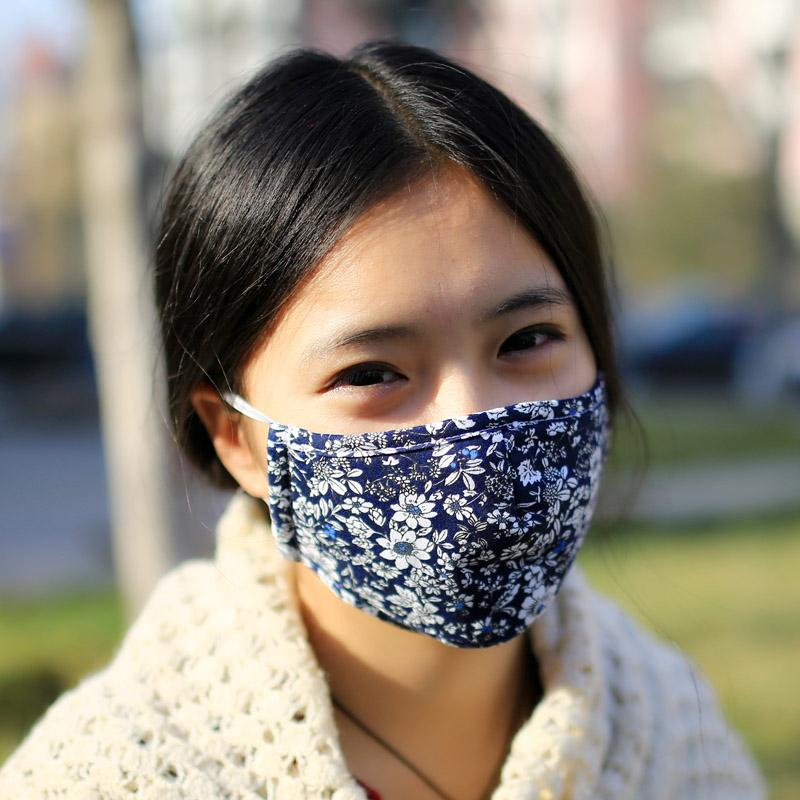OK: (239, 276, 605, 642)
